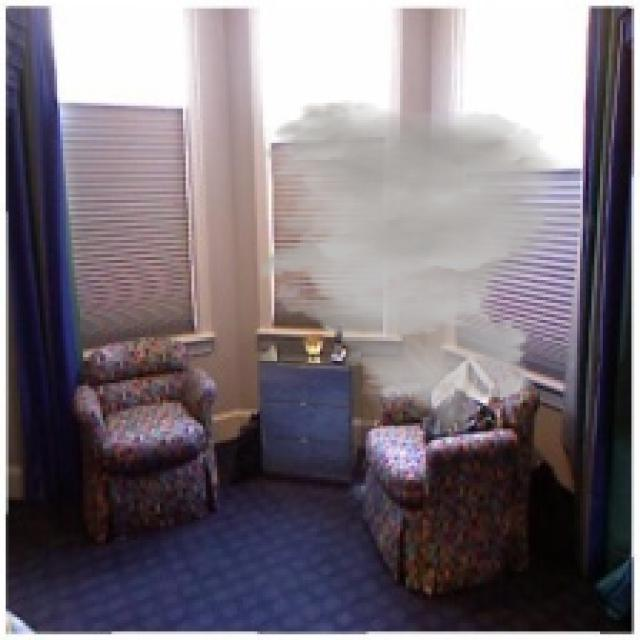smoke: (257, 100, 603, 443)
